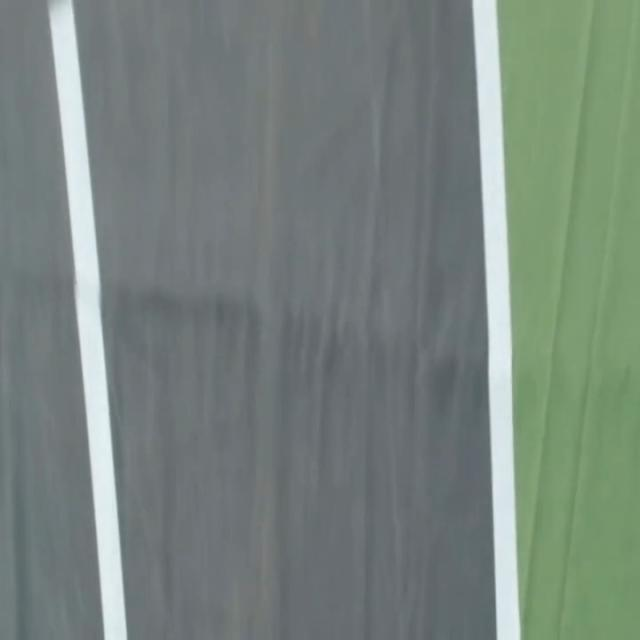center: (49, 0, 126, 639)
right: (473, 0, 520, 639)
